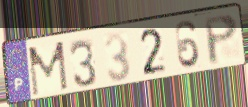2: (138, 26, 168, 77)
3: (69, 37, 99, 89), (103, 31, 132, 83)
6: (174, 19, 201, 71)
M: (26, 39, 70, 99)
P: (202, 12, 240, 68)
